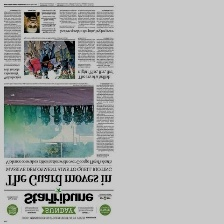news_paper: (1, 0, 115, 222)
